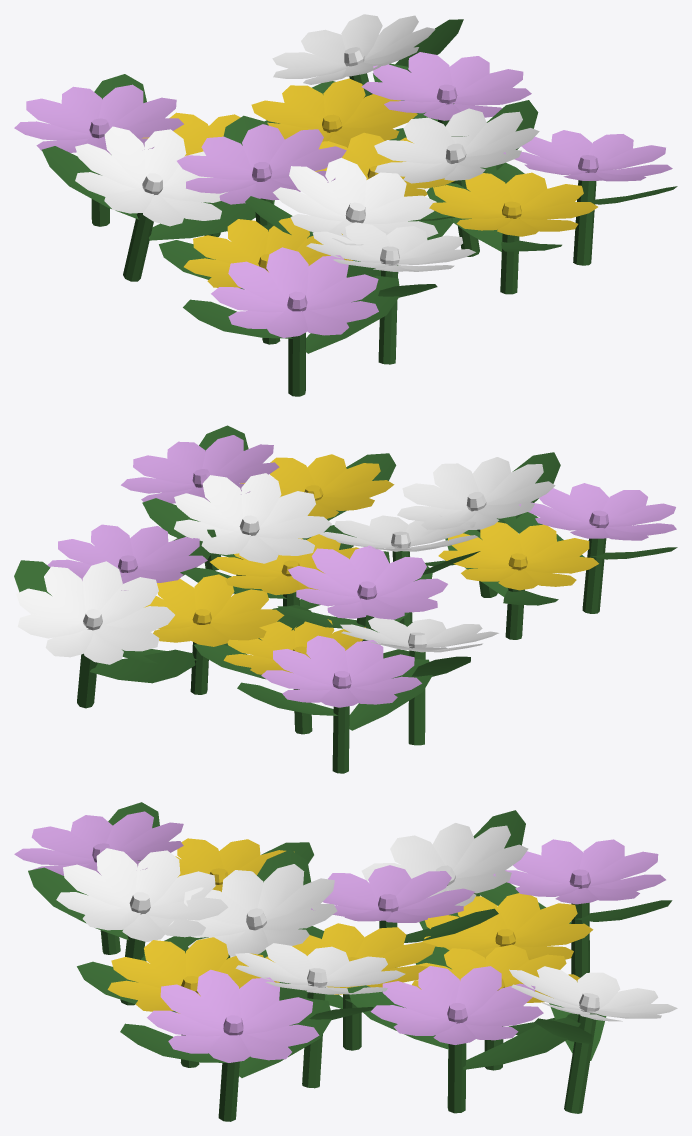
The model's file is Flowerbed.fbx.
The picture shows the model from 3 angles, top to bottom: view 1: azimuth 30°, elevation 25°; view 2: azimuth 150°, elevation 25°; view 3: azimuth 270°, elevation 25°; orthographic projection. The views are drawn at different scales.
Visible parts, largest first — view 1: Plane.012; view 2: Plane.012; view 3: Plane.012.
Part boxes in pixels (x1,y1,x2,y2): Plane.012: [14, 14, 677, 396]; Plane.012: [14, 425, 677, 773]; Plane.012: [14, 802, 677, 1121].
Size of the model in its own units: 513 by 131 by 551.
